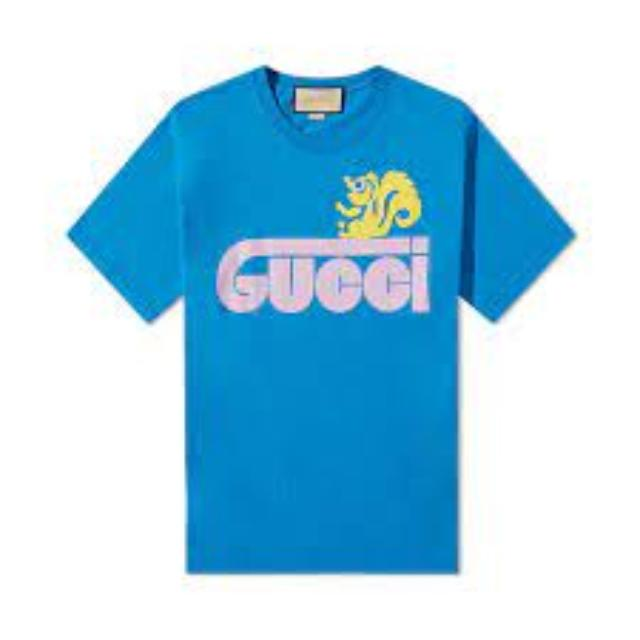Gucci: (214, 238, 441, 318)
